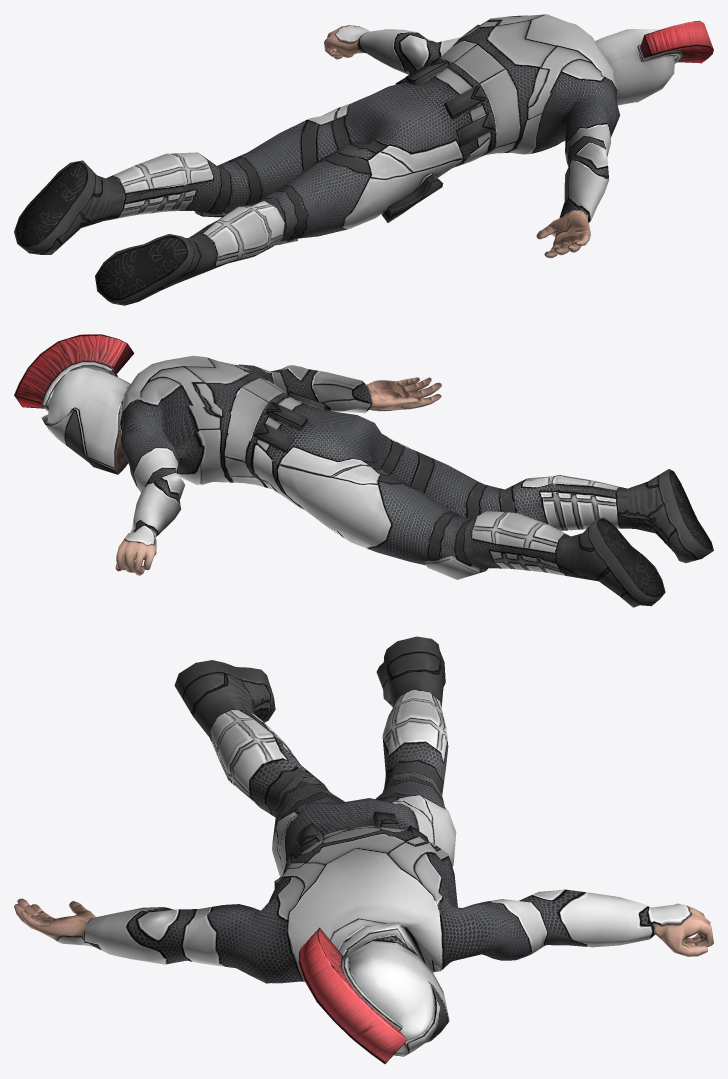
The model's file is Cop_shooter_3.fbx.
The picture shows the model from 3 angles, top to bottom: view 1: azimuth 30°, elevation 25°; view 2: azimuth 150°, elevation 25°; view 3: azimuth 270°, elevation 25°; orthographic projection. The views are drawn at different scales.
Parts seen in each view (by area): view 1: Low; view 2: Low; view 3: Low.
Boxes of the visible parts, left/top/right/bottom form: Low: left=14, top=14, right=713, bottom=305; Low: left=14, top=334, right=713, bottom=607; Low: left=14, top=636, right=713, bottom=1063.
Size of the model in its own units: 1914 by 372 by 1361.
